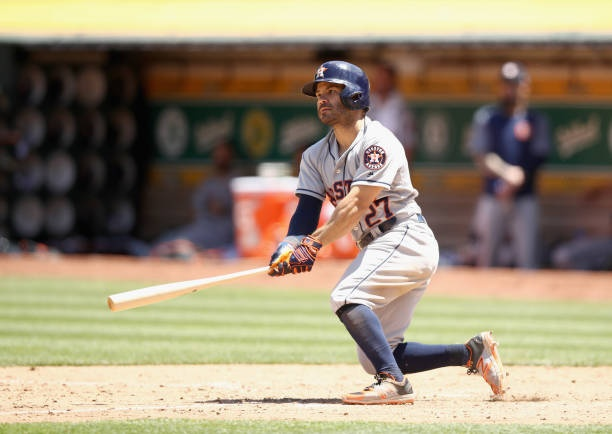bita: (109, 255, 309, 309)
